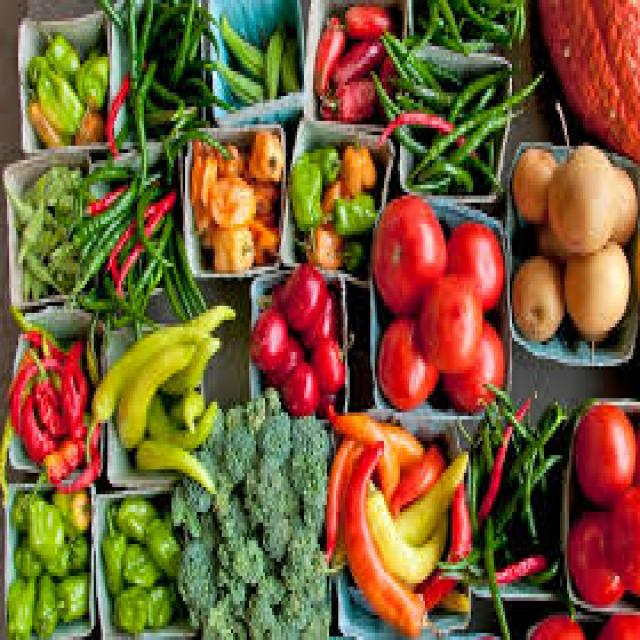organic waste: (169, 384, 327, 636), (84, 320, 212, 466), (532, 0, 638, 160), (341, 438, 425, 636), (404, 68, 540, 178), (372, 103, 500, 185), (112, 338, 197, 448), (372, 188, 443, 316), (361, 477, 446, 583), (411, 476, 464, 626), (423, 64, 505, 160), (546, 139, 613, 249), (572, 402, 636, 508), (396, 448, 466, 544), (475, 395, 526, 526), (416, 270, 480, 370), (327, 395, 420, 462), (562, 238, 624, 338), (491, 444, 558, 534), (105, 188, 176, 270), (441, 217, 501, 313), (377, 313, 437, 405), (441, 320, 503, 405), (117, 195, 176, 281), (503, 402, 562, 484), (510, 252, 562, 338), (567, 512, 617, 601), (16, 327, 85, 391), (478, 391, 523, 484), (386, 437, 441, 512), (68, 178, 135, 238), (132, 437, 212, 487), (144, 388, 215, 444), (322, 36, 387, 96), (327, 434, 356, 565), (34, 60, 82, 138), (130, 210, 174, 295), (76, 217, 130, 284), (508, 142, 556, 217), (384, 25, 439, 89), (7, 356, 55, 426), (100, 267, 156, 327), (606, 487, 638, 590), (158, 334, 219, 388), (281, 260, 325, 334), (482, 512, 508, 636), (217, 11, 263, 78), (130, 54, 153, 188), (25, 438, 80, 494), (469, 548, 546, 586), (7, 306, 64, 356), (51, 434, 98, 491), (107, 494, 160, 544), (204, 174, 252, 228), (25, 494, 60, 566), (322, 0, 391, 36), (318, 192, 375, 235), (316, 78, 377, 118), (16, 391, 50, 462), (187, 139, 215, 224), (60, 338, 84, 437), (288, 153, 320, 227), (388, 68, 455, 103), (313, 14, 343, 92), (247, 306, 283, 370), (144, 516, 181, 576), (462, 0, 509, 46), (308, 334, 343, 395), (167, 0, 192, 85), (176, 231, 203, 309), (471, 558, 555, 583), (208, 228, 256, 270), (299, 288, 334, 345), (338, 135, 373, 192), (80, 174, 126, 217), (215, 57, 260, 99), (23, 96, 64, 142), (52, 569, 87, 622), (263, 334, 297, 388), (73, 46, 105, 103), (247, 128, 279, 185), (105, 67, 126, 153), (16, 196, 46, 256), (610, 164, 633, 242), (98, 508, 121, 586), (521, 438, 537, 548), (32, 373, 59, 438), (190, 71, 233, 110), (41, 29, 78, 74), (375, 42, 398, 114), (23, 252, 64, 292), (121, 534, 156, 580), (281, 359, 313, 409), (7, 572, 32, 636), (304, 220, 336, 270), (110, 583, 144, 629), (406, 0, 434, 53), (137, 0, 156, 78), (50, 490, 87, 530), (261, 25, 281, 99), (169, 384, 201, 430), (144, 580, 174, 626), (162, 260, 185, 320), (526, 612, 583, 636), (39, 164, 78, 199), (153, 75, 197, 106), (304, 142, 338, 182), (434, 0, 462, 46), (34, 572, 55, 633), (76, 163, 132, 185), (503, 405, 537, 441), (281, 28, 300, 92), (185, 302, 233, 327), (80, 224, 128, 249), (251, 217, 279, 259), (71, 100, 100, 138), (124, 0, 137, 82), (144, 103, 203, 121), (75, 288, 124, 309), (482, 377, 514, 409), (46, 242, 78, 274), (596, 612, 638, 636), (537, 220, 565, 256), (480, 416, 494, 487), (7, 487, 34, 523), (71, 412, 98, 448), (14, 534, 39, 572), (0, 415, 11, 501), (320, 174, 341, 217), (25, 46, 46, 89), (27, 164, 64, 188), (100, 0, 124, 36), (252, 182, 274, 220), (434, 586, 466, 612), (41, 544, 64, 576), (341, 238, 364, 270), (217, 142, 238, 174), (11, 188, 32, 220), (66, 534, 85, 566), (44, 210, 68, 234), (482, 0, 512, 14), (512, 0, 521, 46), (270, 281, 286, 306), (53, 188, 73, 206), (508, 0, 516, 39), (21, 267, 32, 295), (30, 274, 43, 295)
